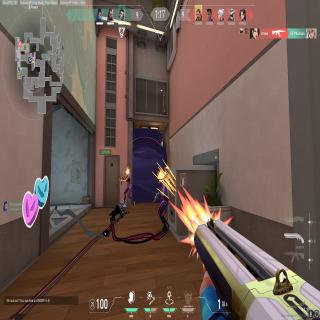ENEMY-BODY: (154, 168, 168, 234), (123, 168, 135, 209)
ENEMY-HEAD: (158, 171, 164, 183), (126, 169, 129, 175)
